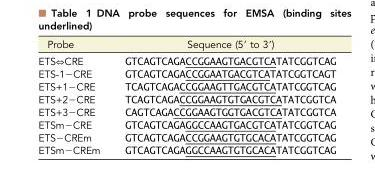table: (37, 37, 335, 155)
table column: (111, 37, 335, 155), (37, 37, 111, 155)
table column header: (37, 37, 335, 52)
table row: (37, 37, 335, 52), (37, 52, 335, 67), (37, 79, 335, 92), (37, 92, 335, 105), (37, 105, 335, 118), (37, 130, 335, 143), (37, 67, 335, 79), (37, 118, 335, 130), (37, 143, 335, 155)
